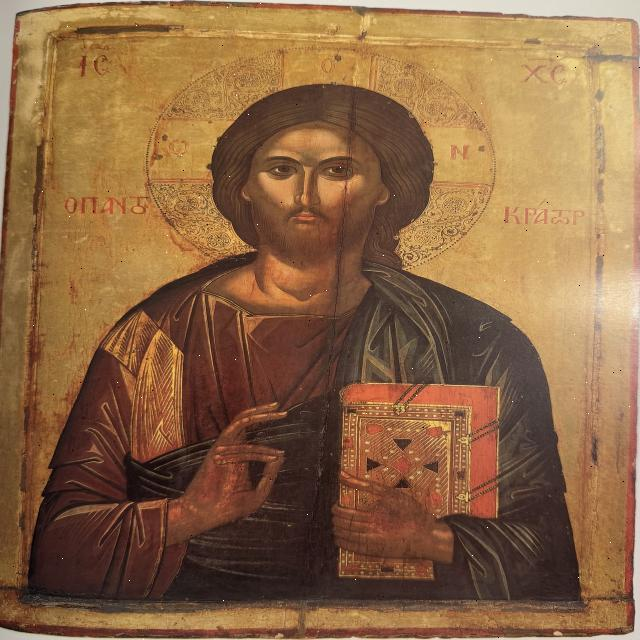aura: (145, 45, 499, 278)
book: (330, 379, 510, 588)
christ: (39, 37, 585, 610)
christ_hand: (156, 399, 308, 543)
